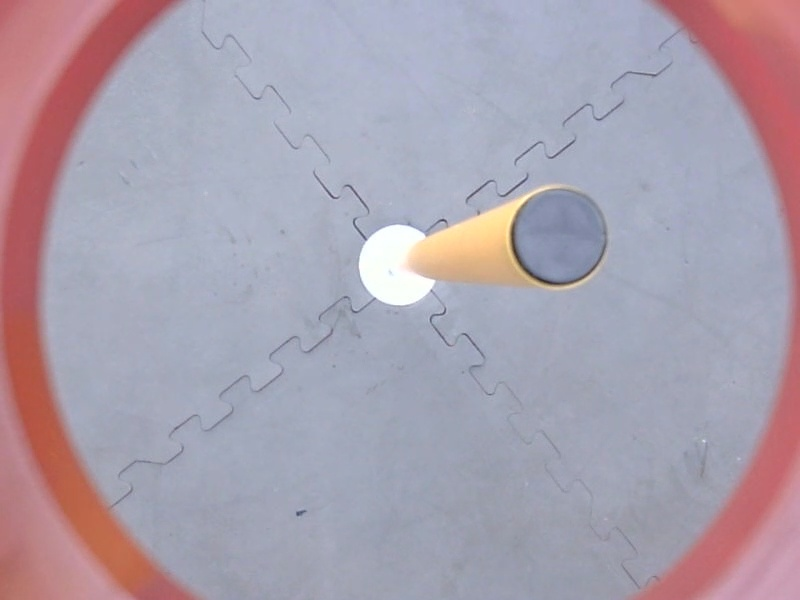tip: (504, 180, 614, 294)
